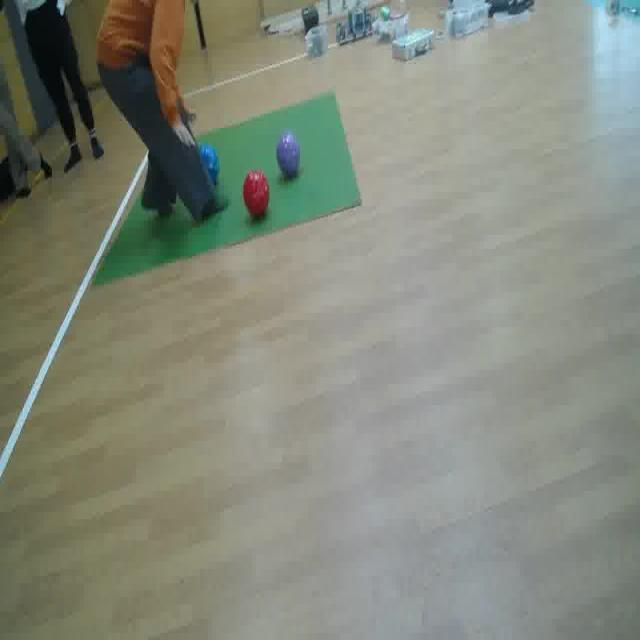blue_ball: (196, 144, 218, 189)
purple_ball: (276, 137, 301, 176)
red_ball: (242, 170, 270, 217)
